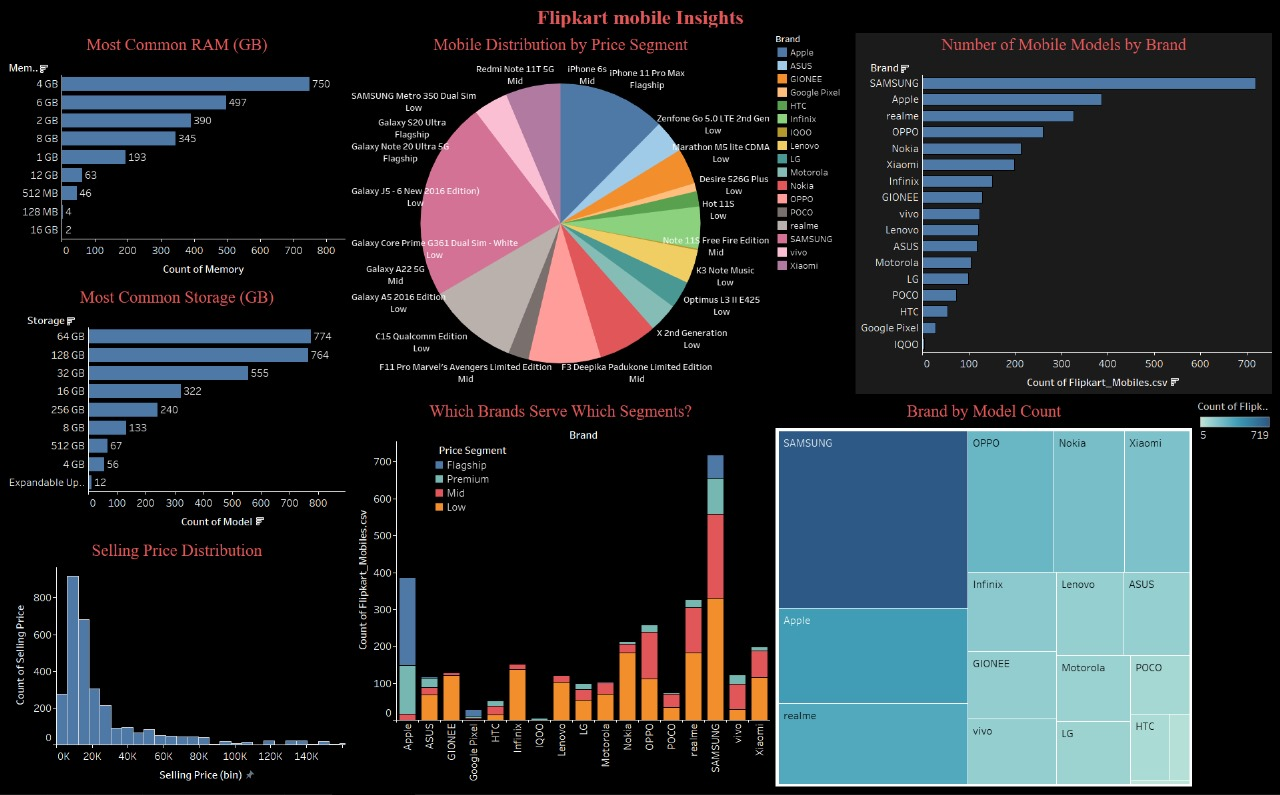

This screenshot's page, from the dashboard's own definition file:
{"tool":"tableau","page":{"name":"Dashboard 1","canvas":[1000,1000],"units":"permille","ordinal":0},"visuals":[{"type":"text","box":[4.2,7.9,991.5,31.6]},{"type":"worksheet","title":"Sheet 4","mark":"Bar","rows":["Memory"],"cols":["Memory"],"box":[4.2,39.5,267.6,317.5]},{"type":"worksheet","title":"Sheet 2","mark":"Pie","box":[271.8,39.5,331.9,460]},{"type":"legend","title":"Sheet 2","param":"[federated.02polel0yjx3jj0zpmax61yuo7al].[none:Brand:nk]","box":[603.8,39.5,62.5,460]},{"type":"worksheet","title":"Sheet 1","mark":"Bar","rows":["Brand"],"cols":["Flipkart_Mobiles.csv_D1220799A953444D972D2921CB1AA390"],"box":[666.3,39.5,329.5,460]},{"type":"worksheet","title":"Sheet 5","mark":"Automatic","rows":["Storage"],"cols":["Model"],"box":[4.2,357,267.6,317.5]},{"type":"worksheet","title":"Sheet 3","mark":"Automatic","rows":["Flipkart_Mobiles.csv_D1220799A953444D972D2921CB1AA390"],"cols":["Brand"],"box":[271.8,499.5,331.9,492.6]},{"type":"worksheet","title":"Sheet 7","mark":"Automatic","box":[603.8,499.5,329.4,492.6]},{"type":"legend","title":"Sheet 7","param":"[federated.02polel0yjx3jj0zpmax61yuo7al].[__tableau_internal_object_id__].[cnt:F","box":[933.2,499.5,62.6,492.6]},{"type":"legend","title":"Sheet 3","param":"[federated.02polel0yjx3jj0zpmax61yuo7al].[none:Calculation_549157698986807296:nk","box":[337.4,557.9,63.6,116.7]},{"type":"worksheet","title":"Sheet 6","mark":"Automatic","rows":["Selling Price"],"cols":["Selling Price (bin)"],"box":[4.2,674.5,267.6,317.6]}]}

Visuals, with their boxes on the dashboard's canvas, which has no fixed pixel size, in thousandths of its width and height (x1, y1, x2, y2). These are canvas units, not pixel positions in the 1280x795 screenshot, which may show the page scaled, cropped or inside an application window:
text: rect(4, 8, 996, 40)
"Sheet 4" worksheet (Bar marks): rect(4, 40, 272, 357)
"Sheet 2" worksheet (Pie marks): rect(272, 40, 604, 500)
"Sheet 2" legend: rect(604, 40, 666, 500)
"Sheet 1" worksheet (Bar marks): rect(666, 40, 996, 500)
"Sheet 5" worksheet: rect(4, 357, 272, 674)
"Sheet 3" worksheet: rect(272, 500, 604, 992)
"Sheet 7" worksheet: rect(604, 500, 933, 992)
"Sheet 7" legend: rect(933, 500, 996, 992)
"Sheet 3" legend: rect(337, 558, 401, 675)
"Sheet 6" worksheet: rect(4, 674, 272, 992)
